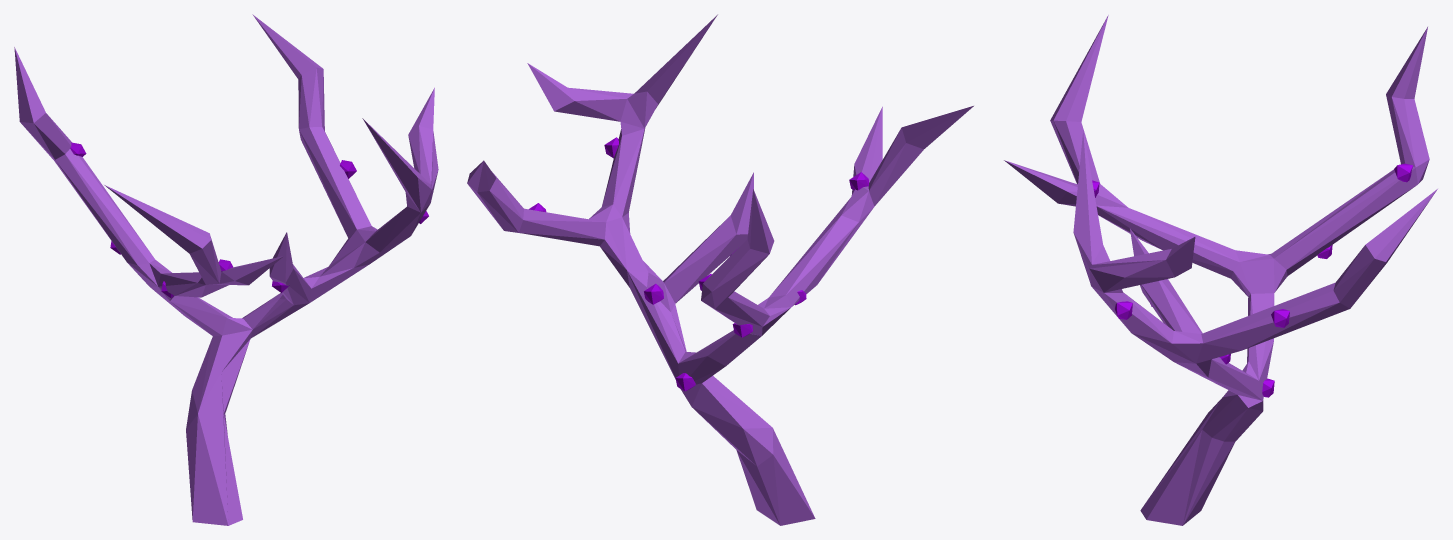
File: Tree 4.fbx
The picture shows the model from 3 angles, left to right: view 1: azimuth 30°, elevation 25°; view 2: azimuth 150°, elevation 25°; view 3: azimuth 270°, elevation 25°; orthographic projection. The views are drawn at different scales.
Visible parts, largest first — view 1: Plane.001; view 2: Plane.001; view 3: Plane.001.
Part boxes in pixels (left/top/right/bottom): Plane.001: left=14, top=14, right=438, bottom=525; Plane.001: left=467, top=14, right=973, bottom=525; Plane.001: left=1004, top=15, right=1437, bottom=525.
Size of the model in its own units: 640 by 668 by 594.
